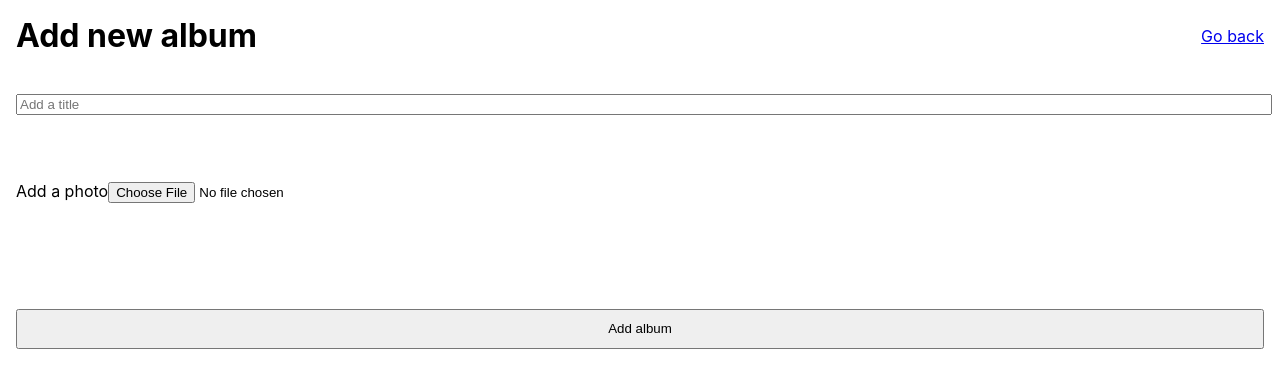
Scenario: AddAlbumPage › allows the user to go back to the albums overview page
expect the heading "Add new album" is shown: met, box 16,16 -> 257,55
Step 1. Click the link "Go back" → (1233, 36), box 1201,26 -> 1264,46
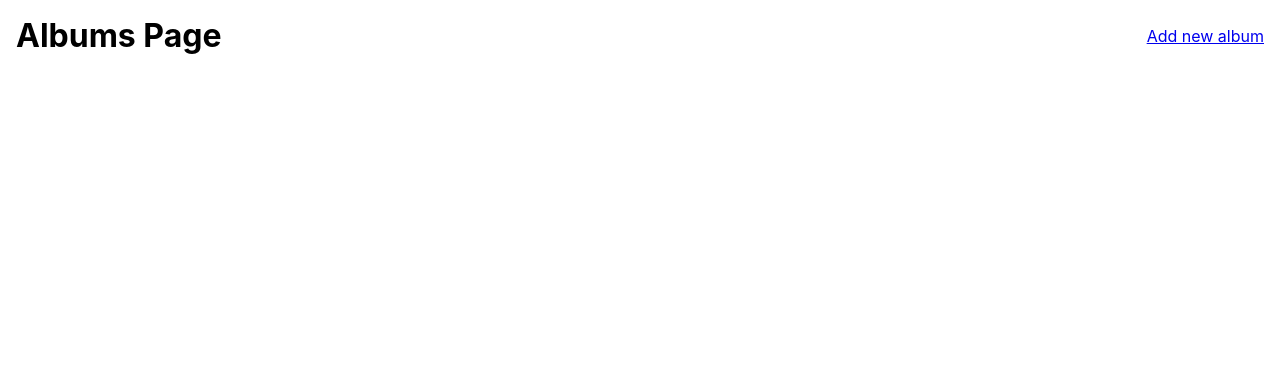
expect the heading "Albums Page" is shown: met, box 16,16 -> 222,55
